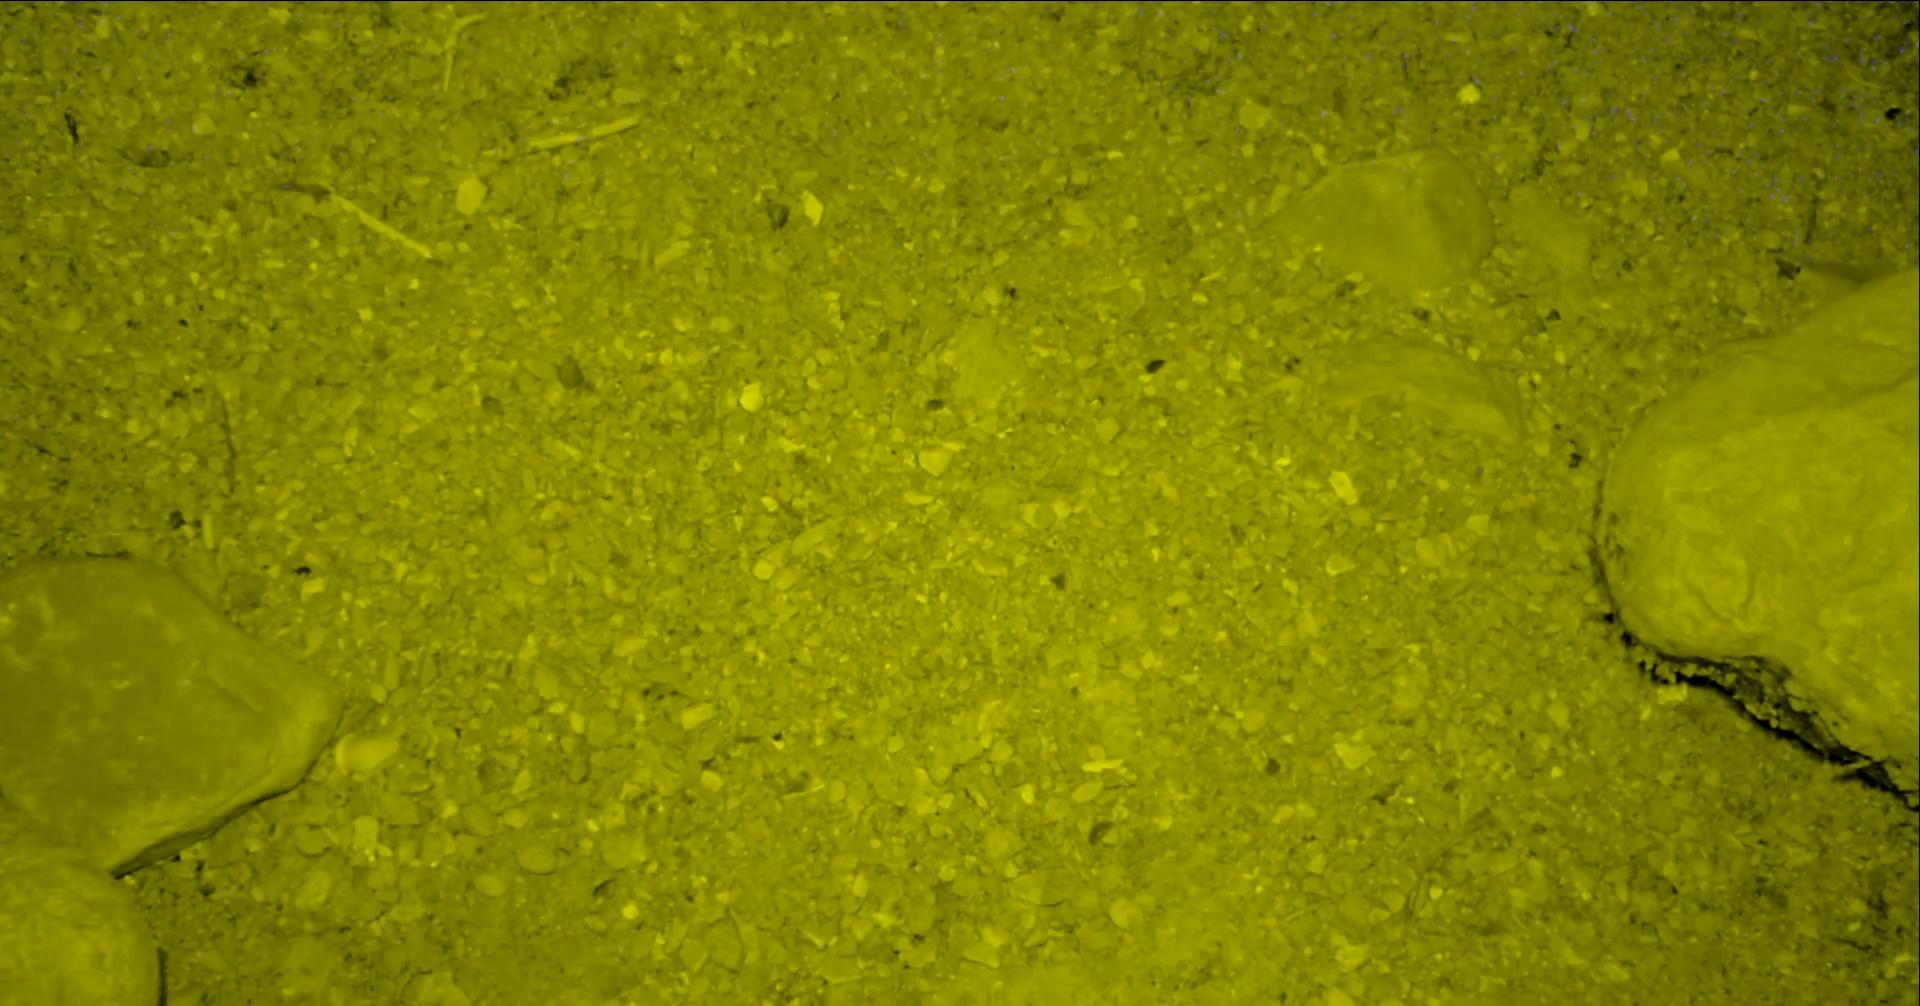ant: (1597, 0, 1895, 9), (1917, 866, 1919, 967), (0, 0, 56, 1)
